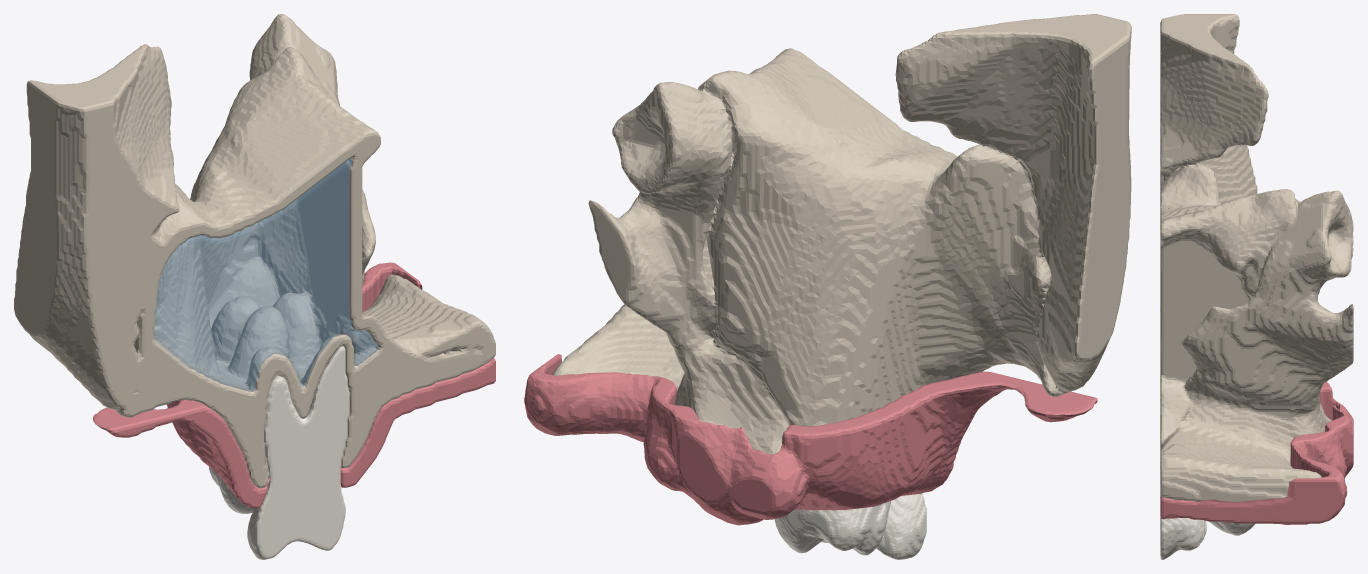
Rendered from risk.glb.
The picture shows the model from 3 angles, left to right: view 1: azimuth 30°, elevation 25°; view 2: azimuth 150°, elevation 25°; view 3: azimuth 270°, elevation 25°; orthographic projection. The views are drawn at different scales.
Parts seen in each view (by area): view 1: bone, sinus, teeth, gum; view 2: bone, gum, teeth; view 3: bone, gum, teeth.
Part boxes in pixels (<box>): bone: <box>14,14,495,488</box>; sinus: <box>153,159,378,391</box>; teeth: <box>209,346,349,559</box>; gum: <box>93,262,495,508</box>; bone: <box>552,14,1131,454</box>; gum: <box>524,354,1097,525</box>; teeth: <box>774,493,926,559</box>; bone: <box>1160,14,1353,502</box>; gum: <box>1160,382,1353,524</box>; teeth: <box>1160,406,1255,559</box>.
Bounding box in the file's own units: 0.051 × 0.0575 × 0.023.
